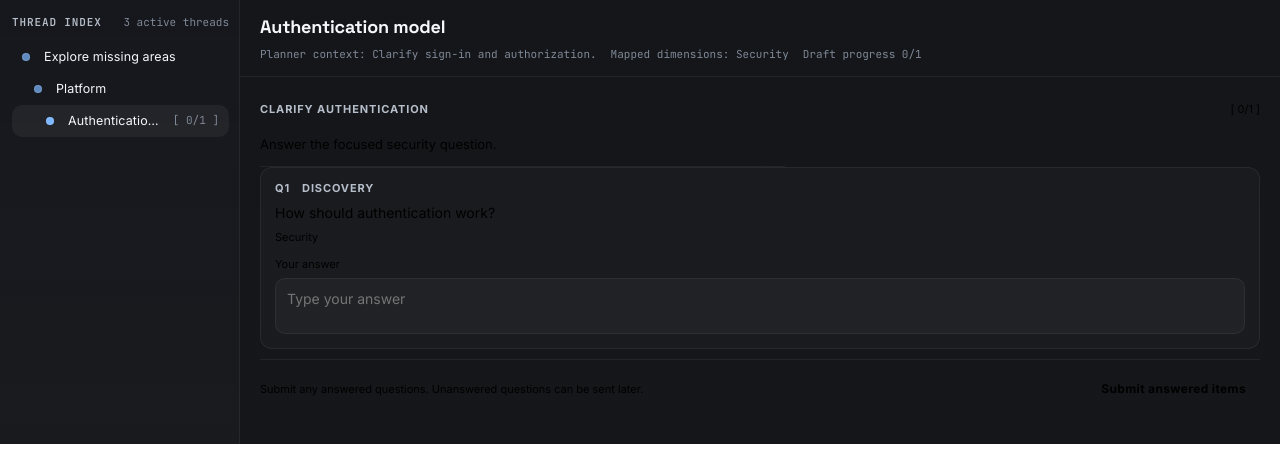
Test case: SocraticWorkspace › updates sidebar telemetry live while the active answer draft changes
Expected: the button "Authentication model [ 0/1 ]" is shown, [12,104,229,136]
In the text box named "Custom text for item-1": (760, 306) [275,278,1245,334], type "Use email magic links."
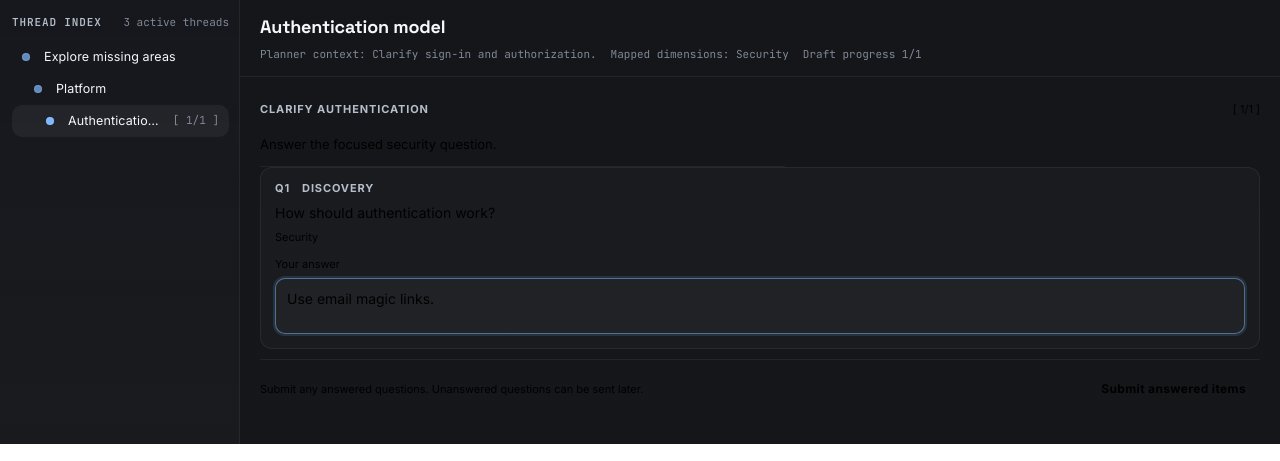
Expected: the button "Authentication model [ 1/1 ]" is shown, [12,104,229,136]
